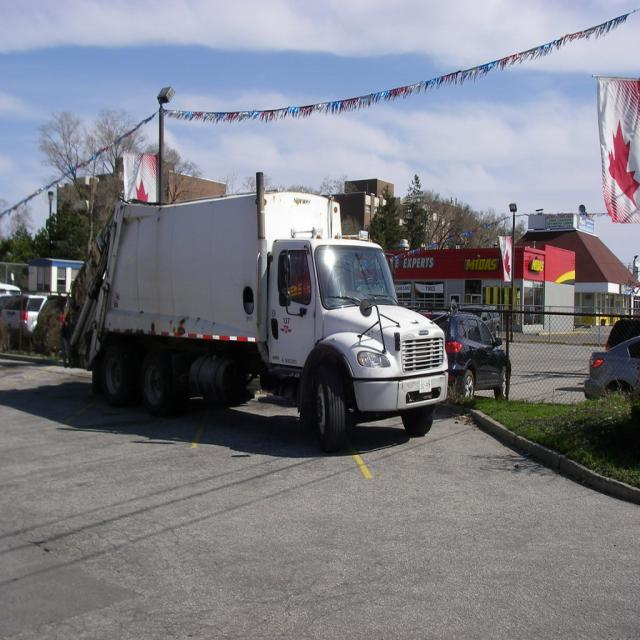bicycle: (48, 170, 456, 442)
